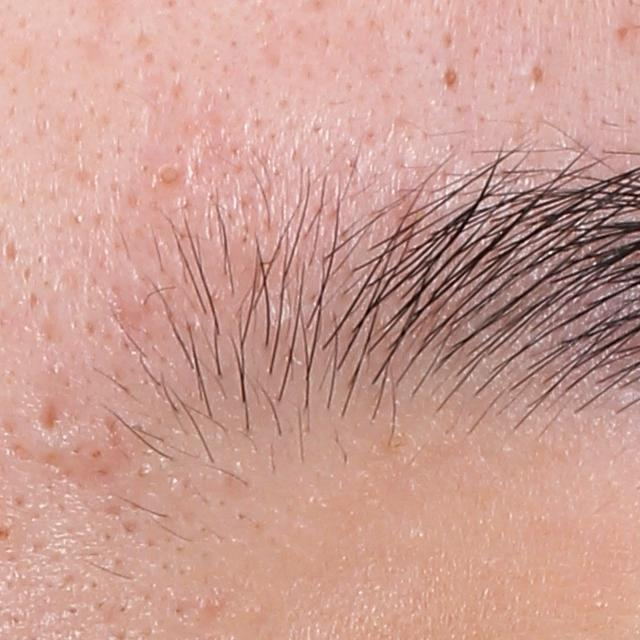atrophic_scar: (37, 395, 61, 435), (3, 237, 20, 262)
comedo: (439, 62, 467, 87), (158, 164, 184, 187), (525, 62, 547, 88), (61, 600, 85, 621)
